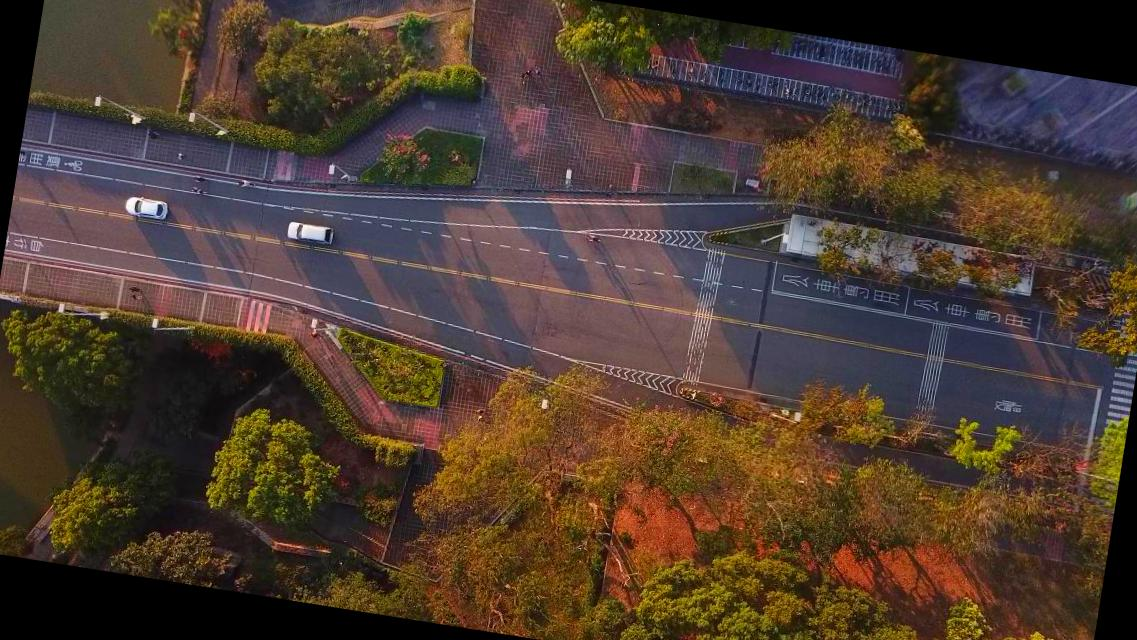vehicle: (124, 194, 169, 220), (286, 221, 334, 245)
